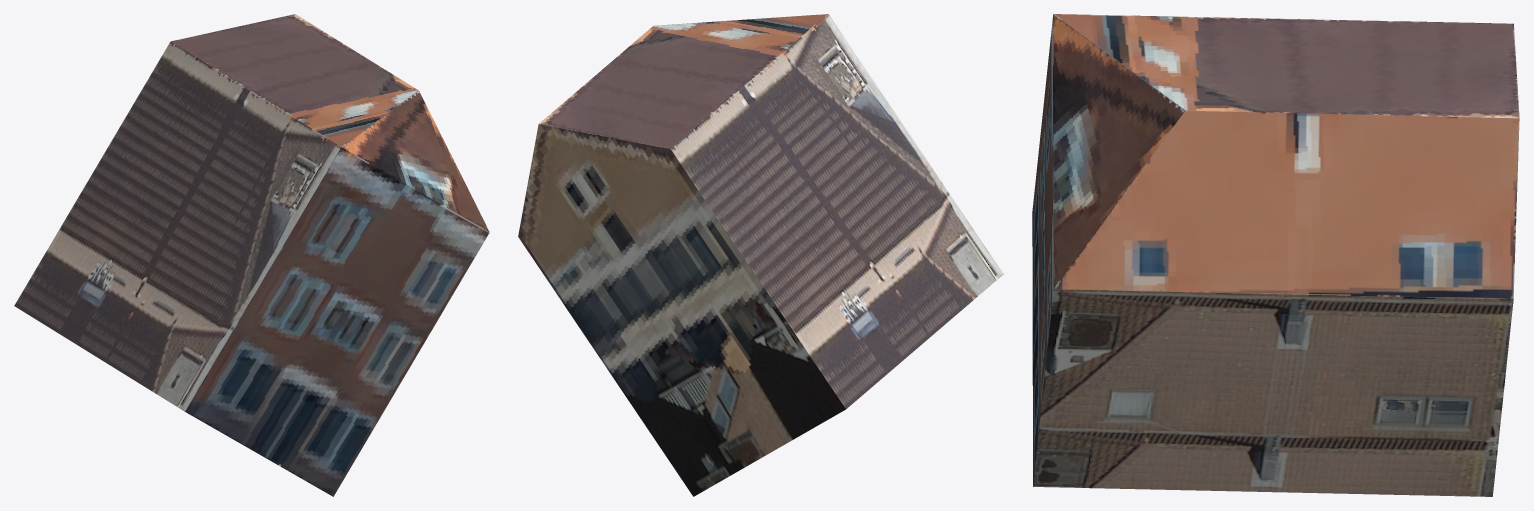
3 renders of one model, left to right at view 1: azimuth 30°, elevation 25°; view 2: azimuth 150°, elevation 25°; view 3: azimuth 270°, elevation 25°, orthographic. The views are drawn at different scales.
Parts seen in each view (by area): view 1: BAG_0599100000760394; view 2: BAG_0599100000760394 (×2); view 3: BAG_0599100000760394 (×2).
Boxes of the visible parts, <box> form: BAG_0599100000760394: <box>14,14,489,496</box>; BAG_0599100000760394 (×2): <box>518,14,1003,496</box>; BAG_0599100000760394 (×2): <box>1032,14,1519,496</box>.
Size of the model in its own units: 13.42 by 14.07 by 12.44.
3 materials, 3 textured.
